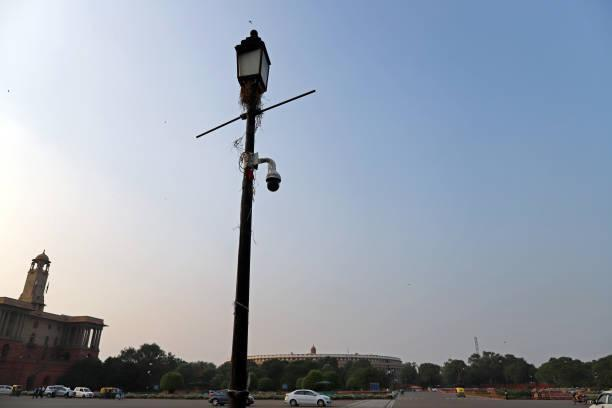camera: (232, 147, 295, 197)
